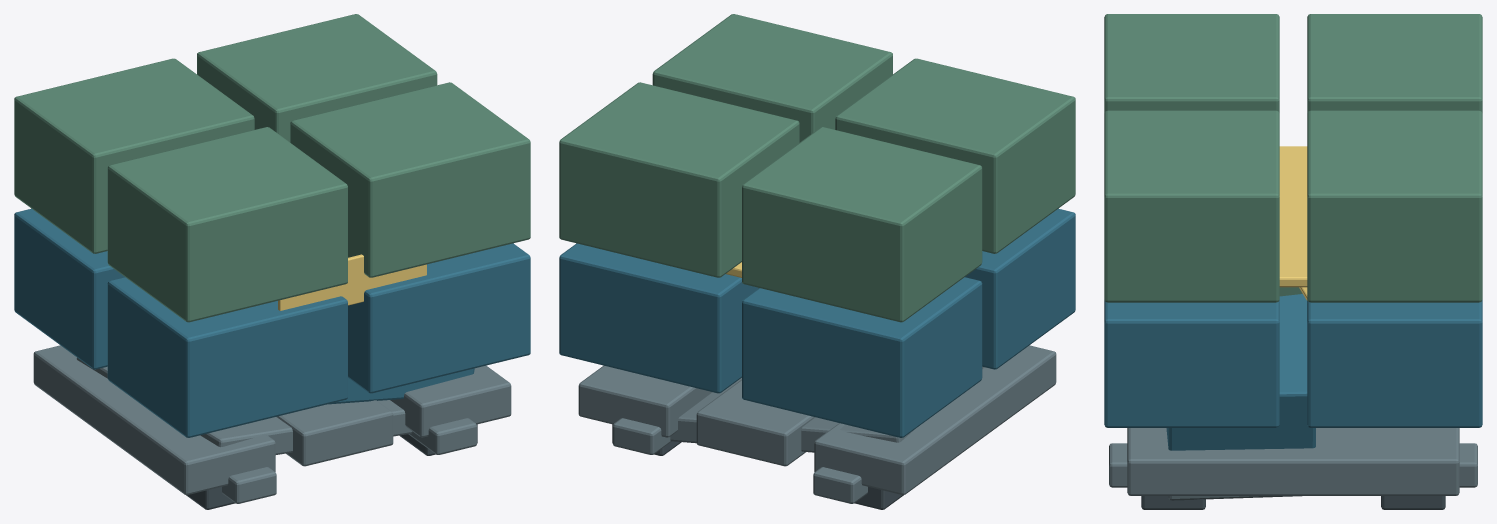
The model's file is pallet_stack_d2.glb.
3 views of the same model, side by side, from view 1: azimuth 30°, elevation 25°; view 2: azimuth 150°, elevation 25°; view 3: azimuth 270°, elevation 25° (orthographic). The views are drawn at different scales.
Visible parts, largest first — view 1: Stacked crate.020, Stacked crate.022, Stacked crate.016, Stacked crate.021, Stacked crate.018, Stacked crate.023, Pallet deck board.006, Stacked crate.017, Pallet deck board.007, Pallet deck board.008, Broken deck, Pallet label.002 (+4 smaller); view 2: Stacked crate.021, Stacked crate.023, Stacked crate.017, Stacked crate.020, Stacked crate.019, Stacked crate.022, Pallet deck board.006, Stacked crate.016, Pallet deck board.007, Pallet deck board.008, Broken deck, Pallet runner.005 (+2 smaller); view 3: Stacked crate.022, Stacked crate.023, Stacked crate.018, Stacked crate.019, Pallet deck board.008, Stacked crate.020, Stacked crate.021, Lower crate crushed, Load wrap.002, Pallet runner.005, Pallet block.011, Pallet block.010.
Boxes of the visible parts, x1,y1,x2,y2 form: Stacked crate.020: [107, 127, 347, 322]; Stacked crate.022: [290, 82, 530, 277]; Stacked crate.016: [107, 277, 347, 437]; Stacked crate.021: [14, 58, 254, 253]; Stacked crate.018: [348, 243, 530, 393]; Stacked crate.023: [197, 14, 437, 142]; Pallet deck board.006: [33, 345, 275, 494]; Stacked crate.017: [14, 208, 124, 369]; Pallet deck board.007: [276, 400, 393, 466]; Pallet deck board.008: [390, 365, 511, 437]; Broken deck: [76, 357, 412, 454]; Pallet label.002: [278, 254, 426, 310]; Stacked crate.021: [742, 127, 982, 322]; Stacked crate.023: [559, 82, 799, 277]; Stacked crate.017: [742, 277, 982, 437]; Stacked crate.020: [835, 58, 1075, 253]; Stacked crate.019: [559, 243, 758, 393]; Stacked crate.022: [652, 14, 892, 142]; Pallet deck board.006: [814, 345, 1056, 494]; Stacked crate.016: [965, 208, 1075, 369]; Pallet deck board.007: [696, 379, 815, 466]; Pallet deck board.008: [578, 365, 712, 437]; Broken deck: [670, 366, 984, 452]; Pallet runner.005: [613, 418, 671, 454]; Stacked crate.022: [1104, 110, 1279, 302]; Stacked crate.023: [1307, 110, 1482, 302]; Stacked crate.018: [1104, 300, 1279, 427]; Stacked crate.019: [1307, 300, 1482, 427]; Pallet deck board.008: [1127, 428, 1459, 495]; Stacked crate.020: [1104, 14, 1279, 113]; Stacked crate.021: [1307, 14, 1482, 113]; Lower crate crushed: [1166, 294, 1315, 450]; Load wrap.002: [1279, 146, 1307, 287]; Pallet runner.005: [1109, 443, 1477, 487]; Pallet block.011: [1381, 496, 1445, 509]; Pallet block.010: [1141, 496, 1205, 509].
Bounding box in the file's own units: 2.34 × 2 × 2.05.
